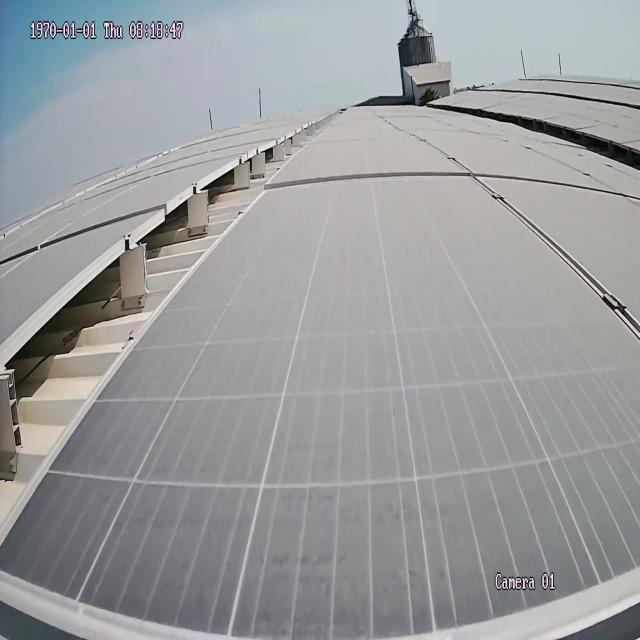interior panel: (269, 166, 637, 319)
outher panel: (0, 118, 329, 533), (486, 113, 637, 173)
